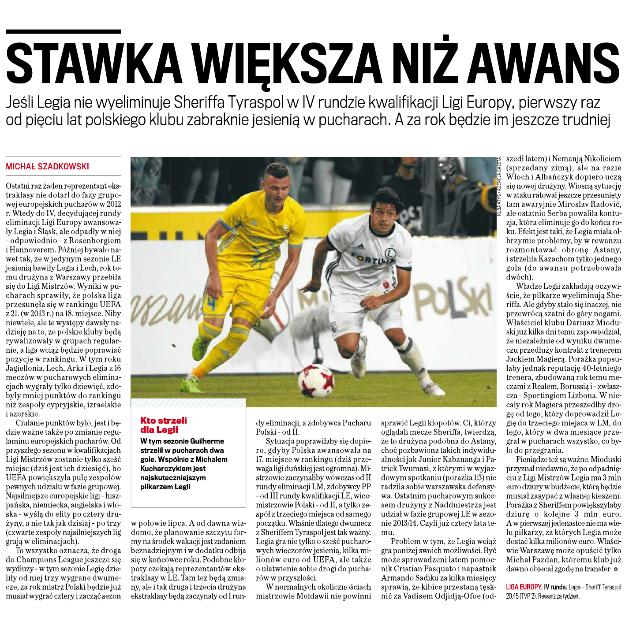author: (2, 156, 96, 172)
body: (1, 178, 127, 604), (128, 516, 248, 602)
lead: (5, 90, 618, 132)
title: (1, 34, 626, 88)
